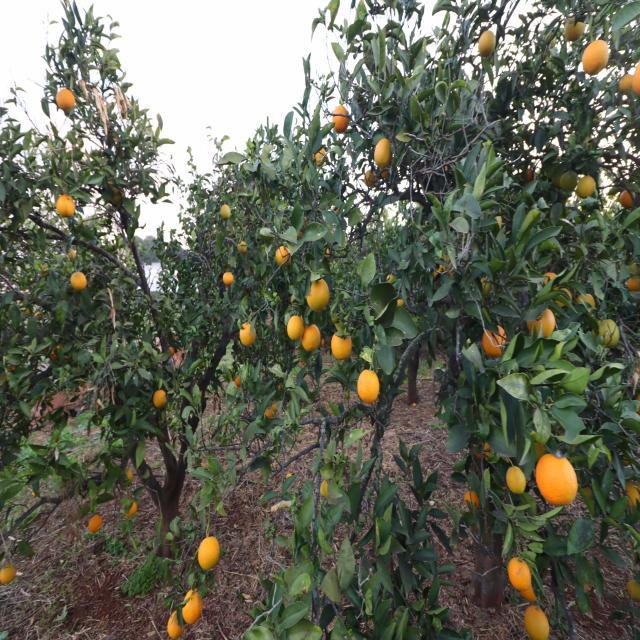Jeruk Belum Matang: (598, 319, 621, 346), (561, 170, 577, 194), (220, 204, 232, 218)
Jeruk Sudah Matang: (537, 454, 579, 504), (522, 604, 549, 640), (582, 41, 611, 74), (508, 556, 533, 592), (198, 536, 220, 572), (358, 370, 381, 404), (309, 280, 332, 310), (184, 593, 204, 624), (374, 137, 392, 169), (332, 335, 354, 360), (505, 467, 526, 493), (536, 310, 557, 336), (332, 104, 350, 134), (480, 332, 500, 358), (54, 195, 76, 218), (302, 328, 322, 353), (564, 19, 586, 41), (478, 30, 496, 56), (55, 88, 77, 109), (621, 483, 640, 506), (286, 316, 302, 342), (238, 325, 256, 348), (620, 73, 640, 92), (70, 271, 88, 291), (578, 177, 596, 197), (86, 512, 104, 532), (168, 618, 184, 640), (274, 246, 291, 266), (578, 292, 596, 310), (0, 566, 17, 585), (556, 288, 572, 306), (619, 192, 635, 208), (312, 148, 326, 166), (222, 270, 236, 286), (154, 390, 166, 408), (628, 276, 640, 292), (364, 171, 376, 187), (321, 480, 330, 500), (125, 501, 137, 516), (542, 273, 556, 285), (238, 241, 247, 254), (125, 470, 133, 482), (264, 410, 272, 420), (234, 376, 242, 386), (168, 346, 174, 356), (272, 403, 278, 411)
